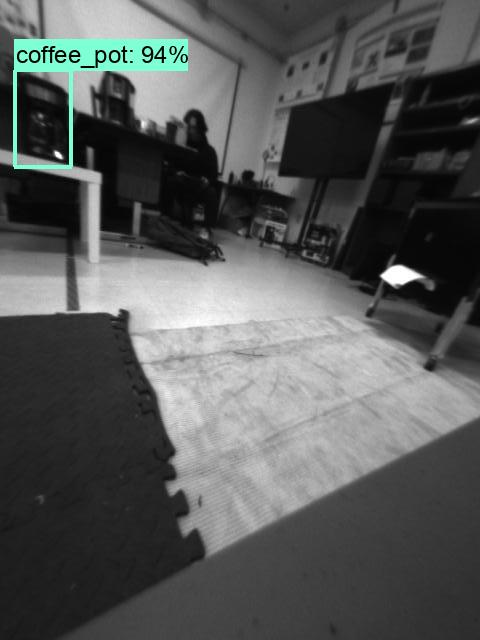coffee_pot: (13, 69, 73, 165)
